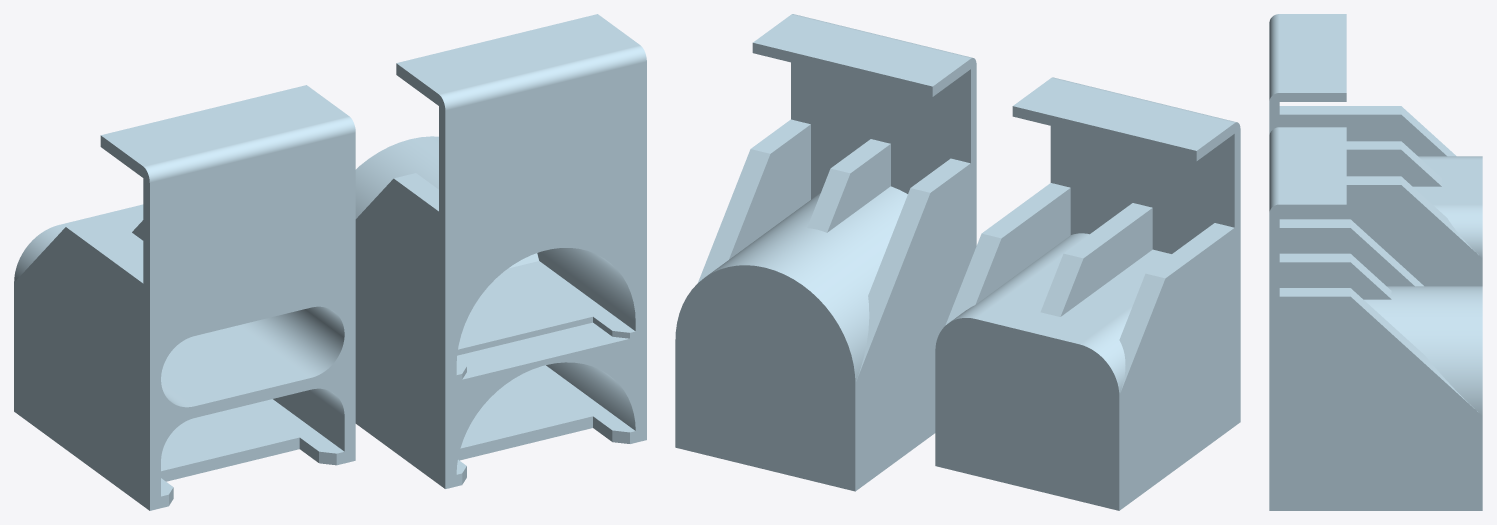
Rendered from custom-remote-control-holder.glb.
3 renders of one model, left to right at view 1: azimuth 30°, elevation 25°; view 2: azimuth 150°, elevation 25°; view 3: azimuth 270°, elevation 25°, orthographic. The views are drawn at different scales.
Visible parts, largest first — view 1: Part 1 (×2); view 2: Part 1 (×2); view 3: Part 1 (×2).
Boxes of the visible parts, x1,y1,x2,y2 form: Part 1 (×2): [14, 14, 646, 510]; Part 1 (×2): [675, 14, 1240, 510]; Part 1 (×2): [1269, 14, 1482, 510].
Size of the model in its own units: 0.111 by 0.0832 by 0.0525.
